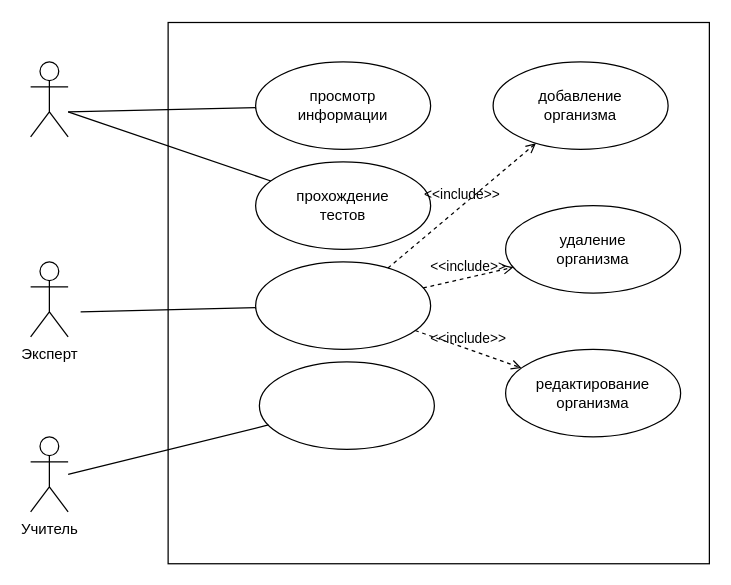
The diagram is 731 pixels wide and 585 high, and some of its shapes have lost their labels. Here are the shapes that lost their labels. From the top down, the centre of each, then its label:
the point at 48,99: Ученик
the point at 342,305: редактирование
the point at 346,405: создание тестов
